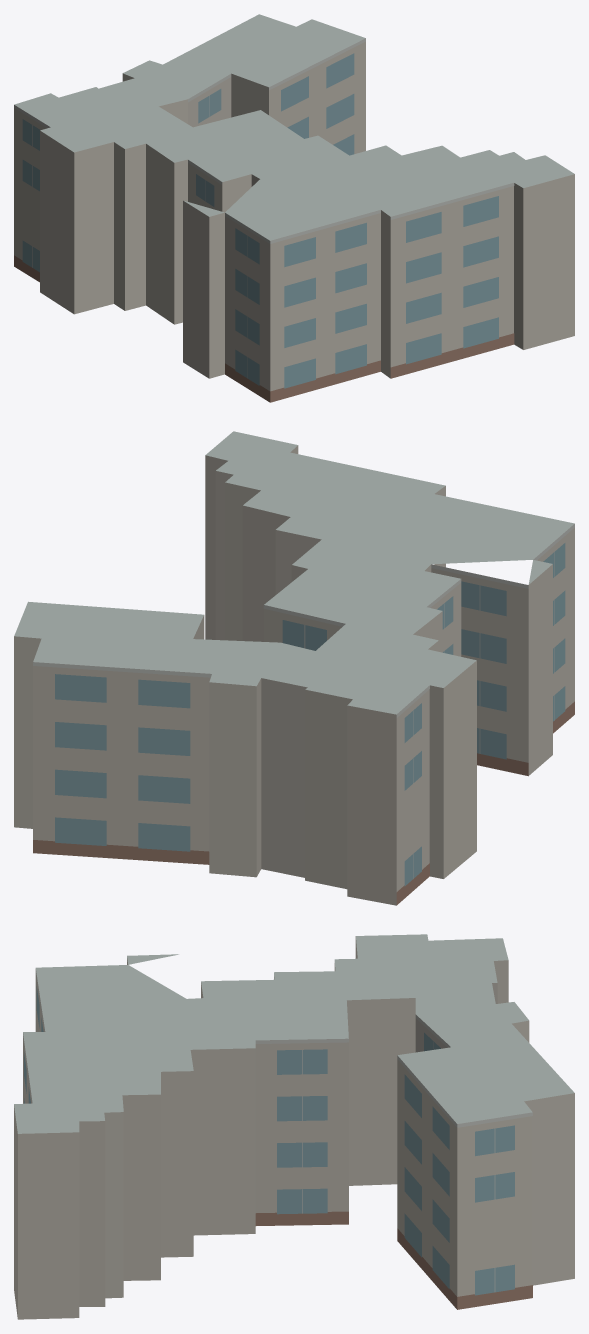
File: survey-upis-32732684.glb
3 views of the same model, one above another, from view 1: azimuth 30°, elevation 25°; view 2: azimuth 150°, elevation 25°; view 3: azimuth 270°, elevation 25° (orthographic). The views are drawn at different scales.
Visible parts, largest first — view 1: survey-upis-32732684.tmp; view 2: survey-upis-32732684.tmp; view 3: survey-upis-32732684.tmp.
Boxes of the visible parts, x1,y1,x2,y2 form: survey-upis-32732684.tmp: (14,14,574,402); survey-upis-32732684.tmp: (14,431,574,905); survey-upis-32732684.tmp: (14,934,574,1319).
Size of the model in its own units: 28.12 by 12.2 by 33.4.
